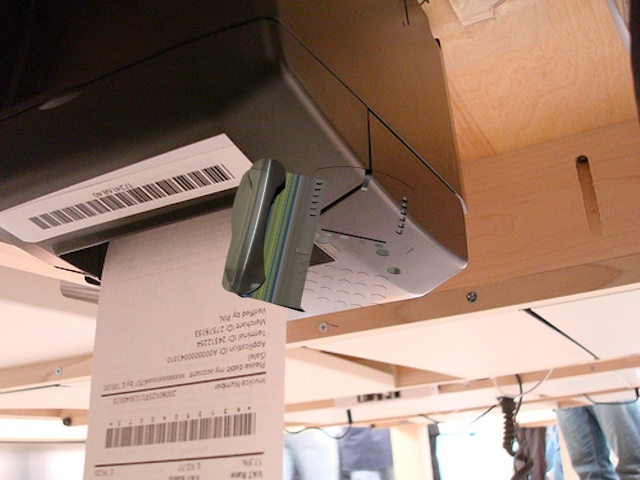phone: (208, 145, 416, 328)
